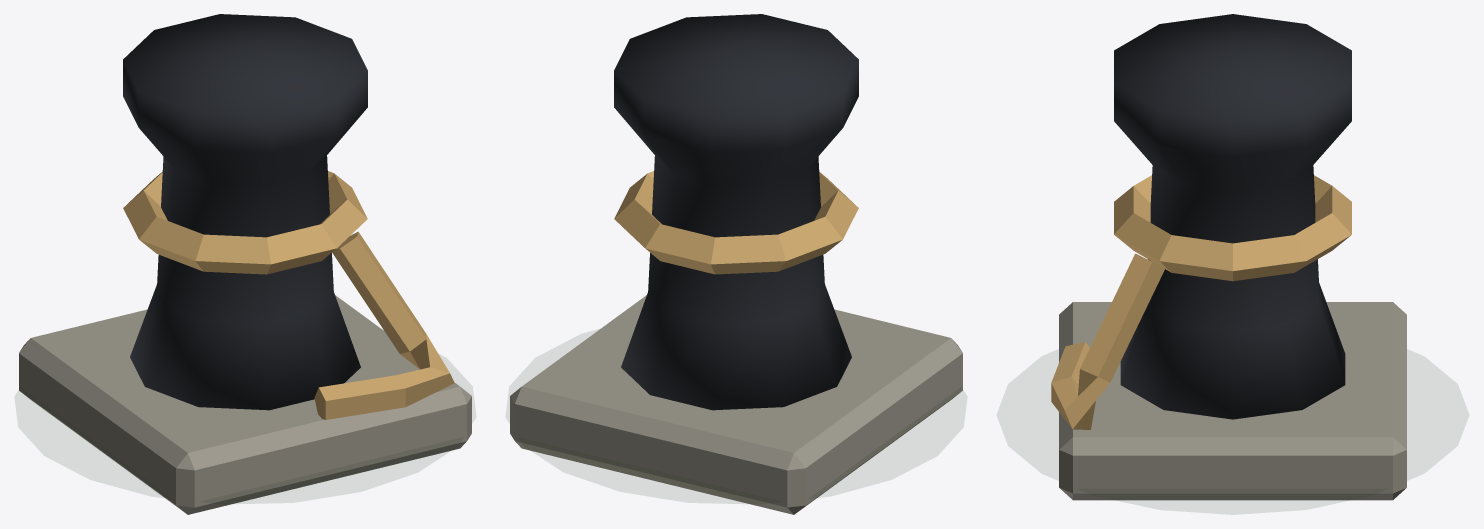
File: bollard.glb
The picture shows the model from 3 angles, left to right: view 1: azimuth 30°, elevation 25°; view 2: azimuth 150°, elevation 25°; view 3: azimuth 270°, elevation 25°; orthographic projection.
Parts seen in each view (by area): view 1: bollard; view 2: bollard; view 3: bollard.
Boxes of the visible parts, x1,y1,x2,y2 form: bollard: [19, 14, 471, 514]; bollard: [510, 14, 962, 514]; bollard: [1051, 14, 1406, 500].
Size of the model in its own units: 0.68 by 0.6 by 0.68.
